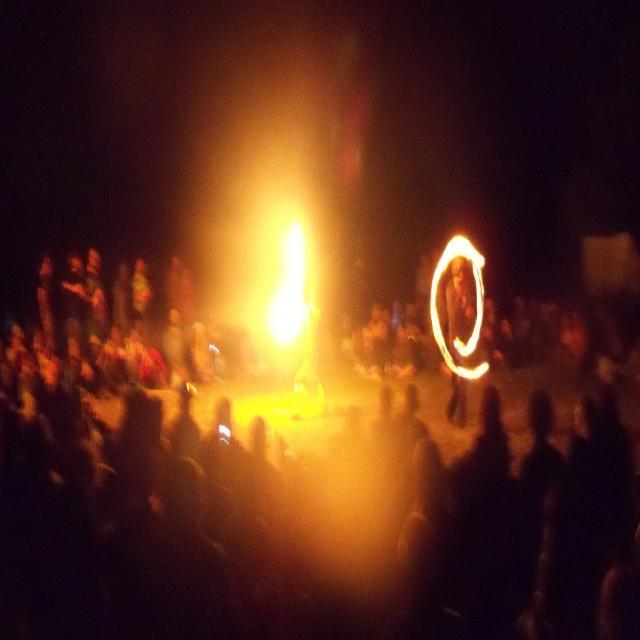Fire: (264, 225, 320, 348), (440, 239, 486, 376)
